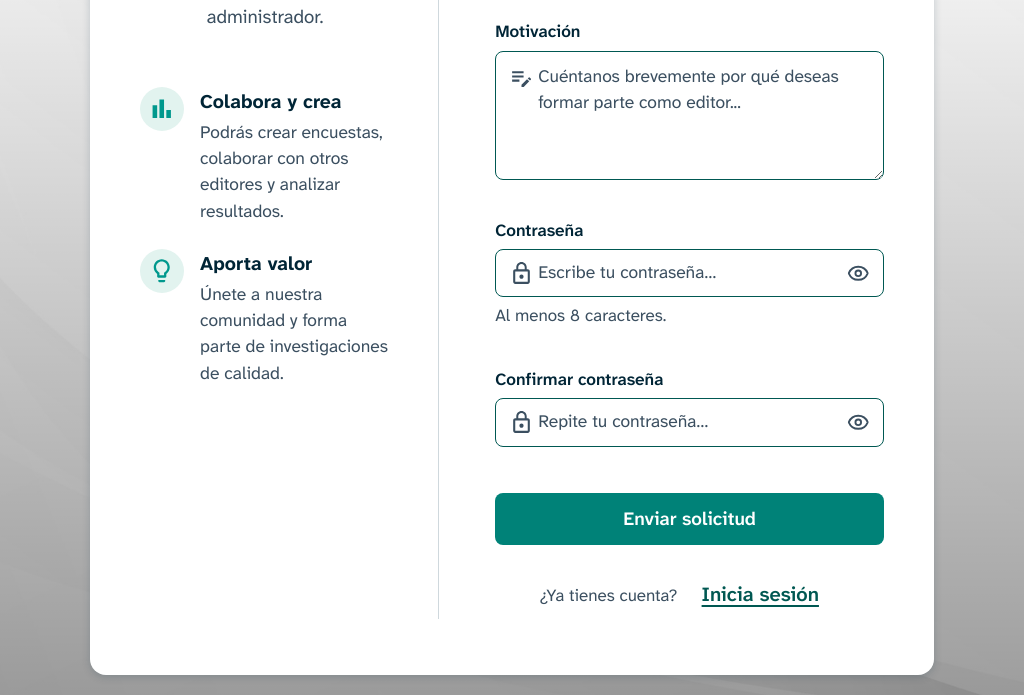
Test: RegisterPage › impide enviar una solicitud incompleta
(page scrolled)
Click the button "Enviar solicitud": (690, 519) [495,493,884,545]
(page scrolled)
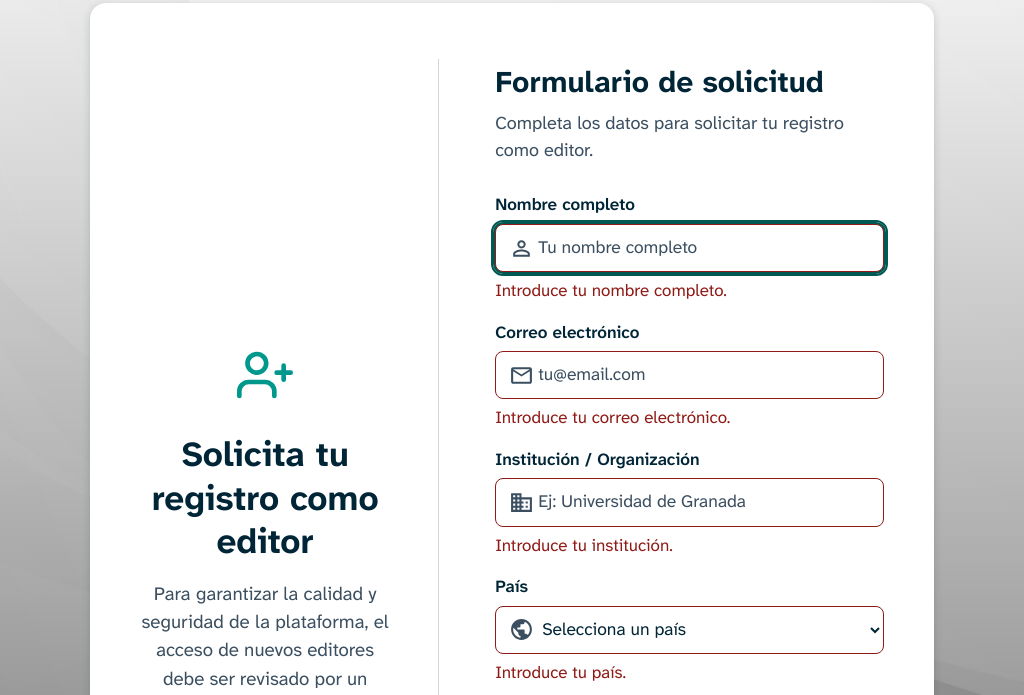
Expected: the text "Introduce tu nombre completo." is shown, [495,279,727,301]
